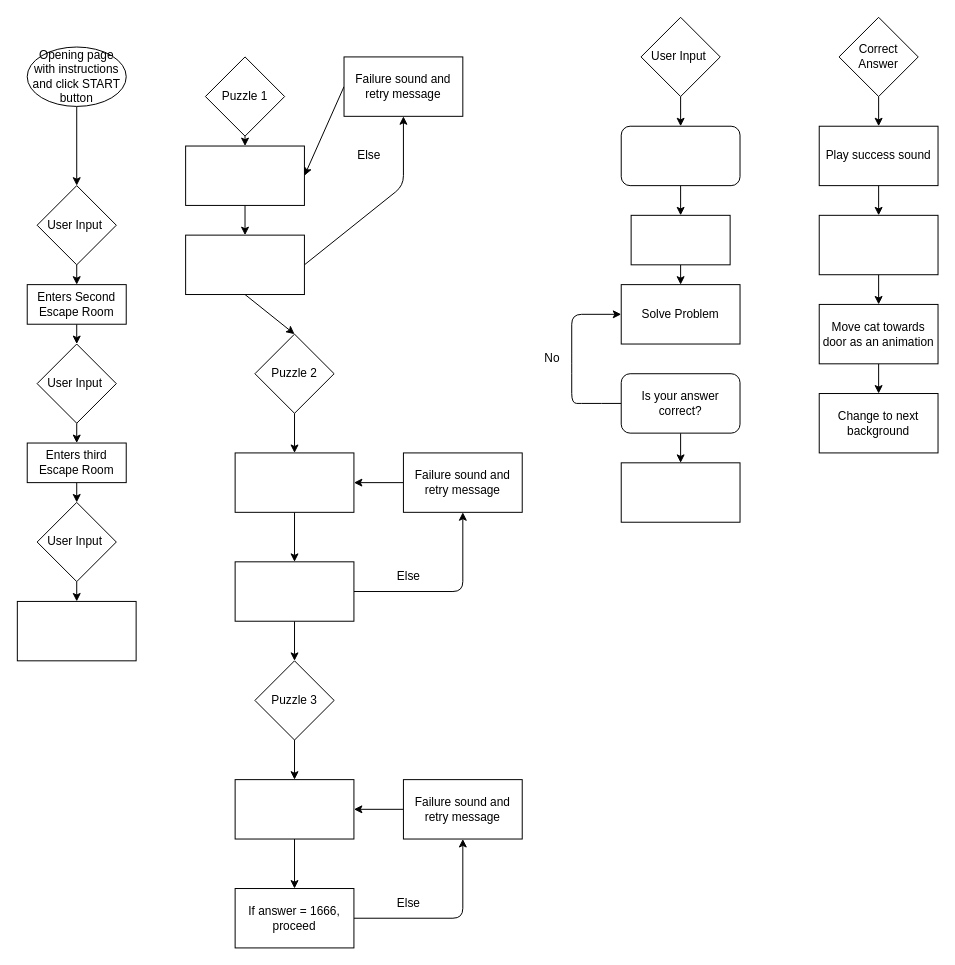
Image size: 955x965. Some labels were removed from this diagram. Here are the shapes that lost their labels. From the top down, the centre of each, then its label:
pixel 244 175: (11x12)+87-25+(7x9)
pixel 680 155: Start on Left Hand Side
pixel 680 239: Approach Sign
pixel 878 244: Eliminate user movement
pixel 244 264: If answer = 257, proceed
pixel 294 482: How would you set the language to English in HTML?
pixel 680 492: Proceed
pixel 294 591: If answer = <html lang="en"> , proceed
pixel 76 630: Room 4 - Destination
pixel 294 809: In what year was the great fire of London?
